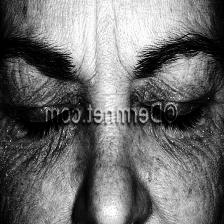Toxin: (25, 127, 74, 182)
